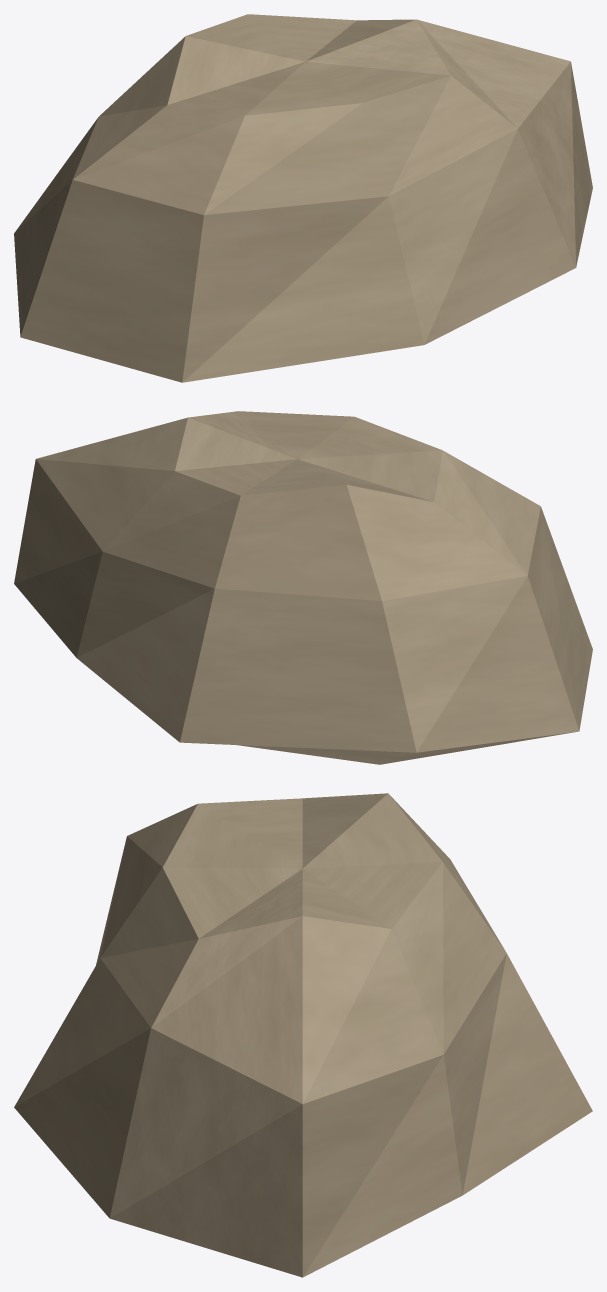
File: SM_CN_Caliche_B_LOD1.fbx
The picture shows the model from 3 angles, top to bottom: view 1: azimuth 30°, elevation 25°; view 2: azimuth 150°, elevation 25°; view 3: azimuth 270°, elevation 25°; orthographic projection. The views are drawn at different scales.
Visible parts, largest first — view 1: SM_CN_Caliche_B_LOD1; view 2: SM_CN_Caliche_B_LOD1; view 3: SM_CN_Caliche_B_LOD1.
Part boxes in pixels (x1,y1,x2,y2): SM_CN_Caliche_B_LOD1: (14, 14, 592, 382); SM_CN_Caliche_B_LOD1: (14, 411, 592, 764); SM_CN_Caliche_B_LOD1: (14, 793, 592, 1277).
Bounding box in the file's own units: 0.88 × 0.634 × 0.37.
